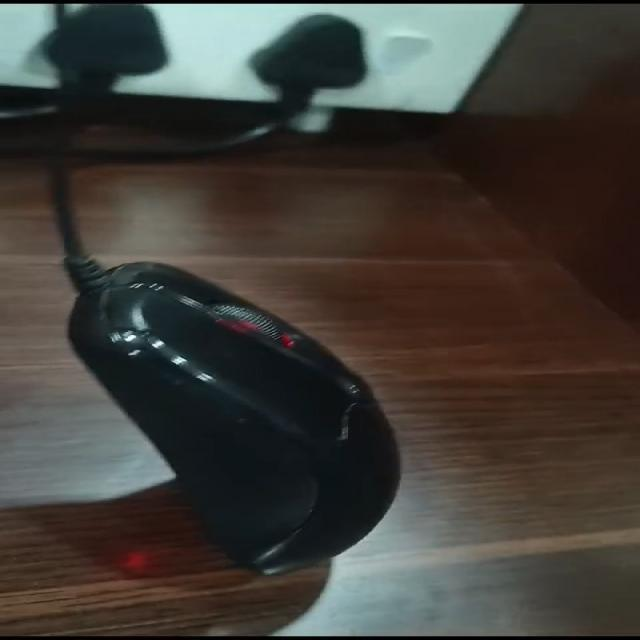Mouse: (4, 222, 444, 574)
